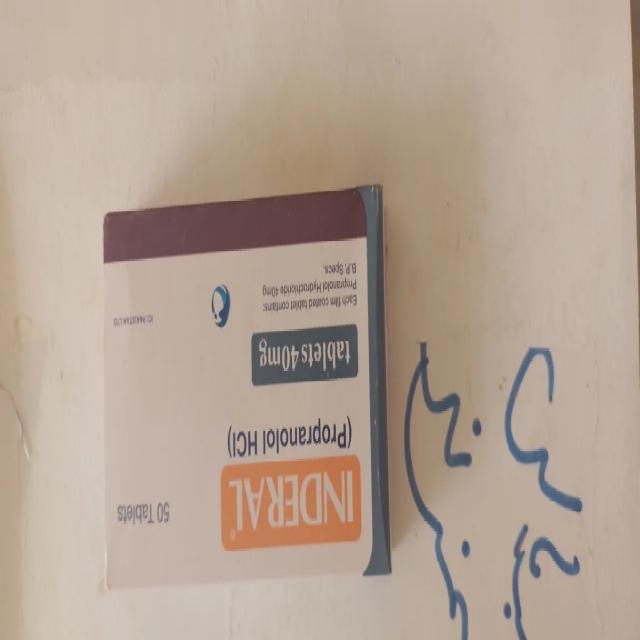drug-name: (227, 468, 358, 536)
